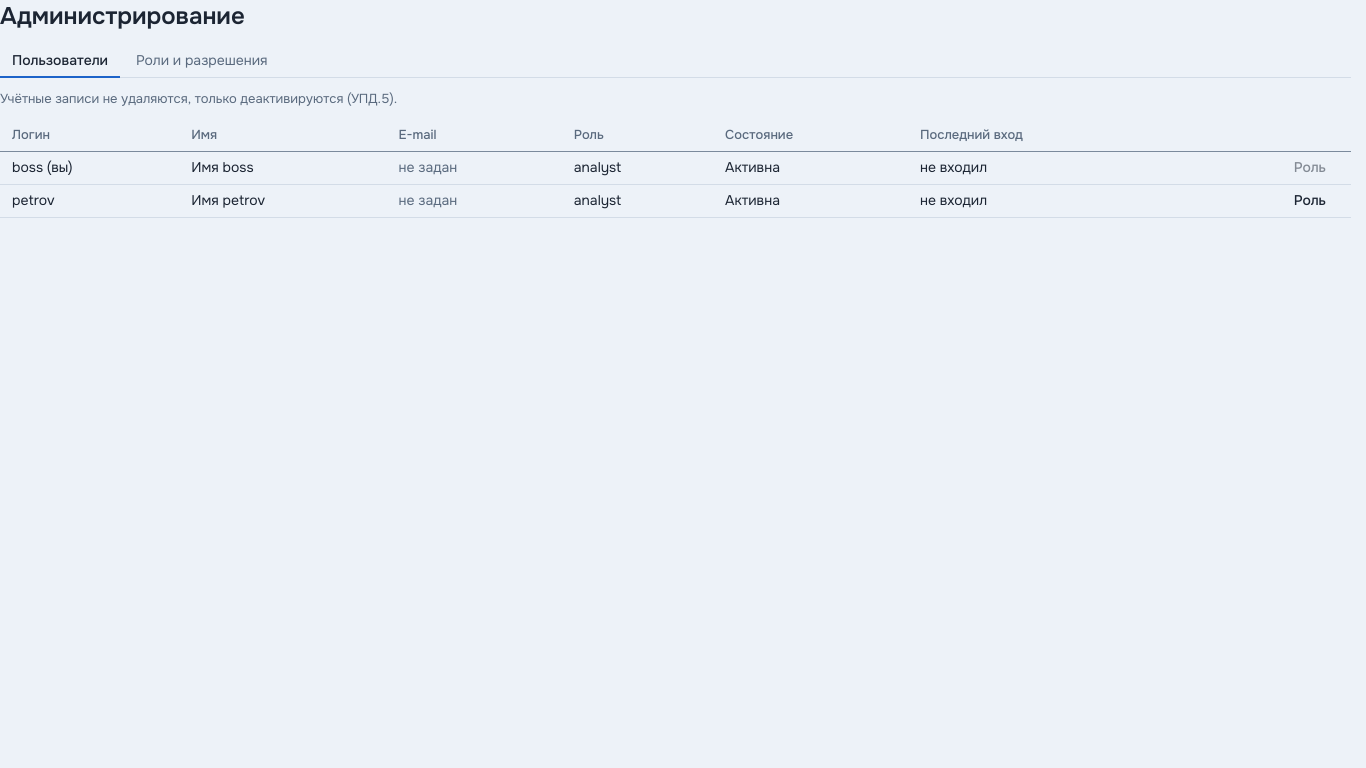
Test case: администрирование › смена роли идёт через диалог, отказ сервера показывается
Check: the text "petrov" is shown, box x1=0 y1=184 x2=179 y2=217
Click the button with aria-label "Сменить роль: petrov": (1310, 201) x1=1281 y1=185 x2=1339 y2=217
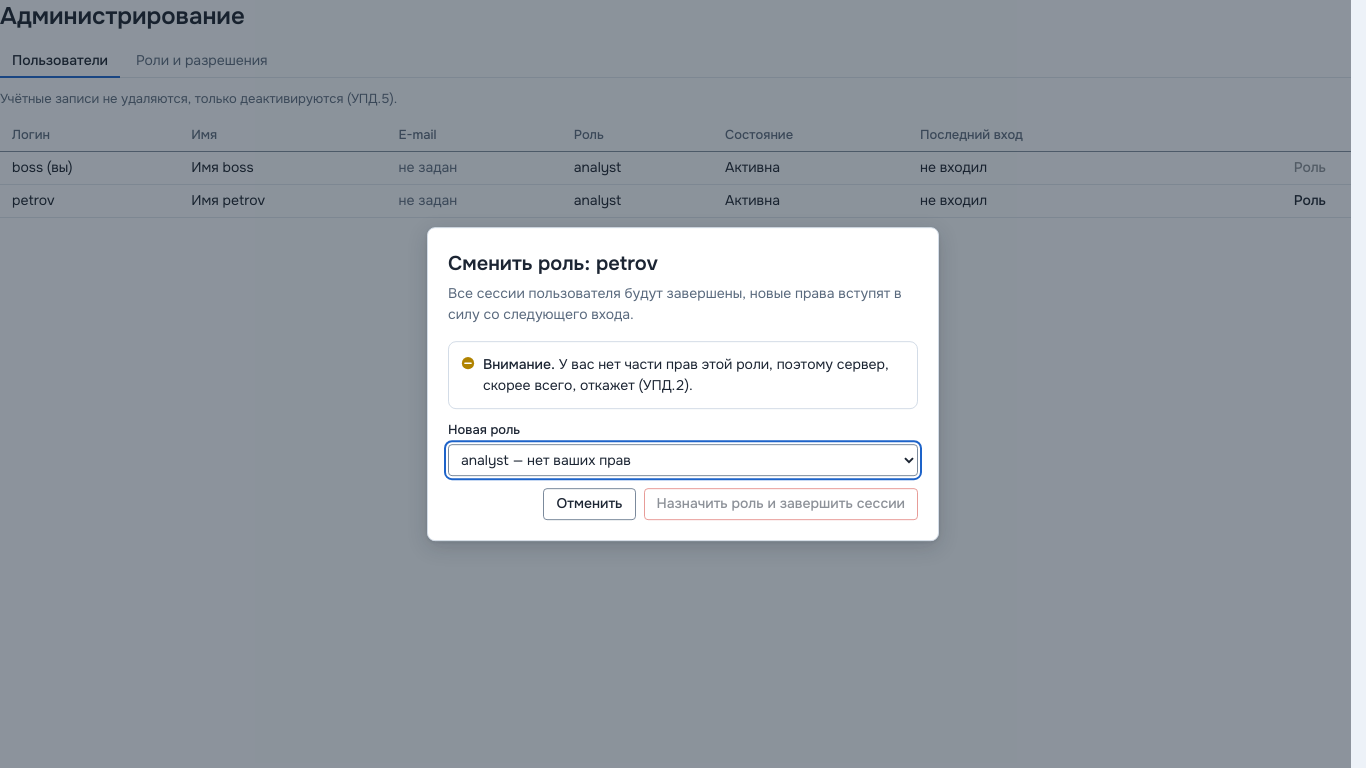
Select "security_admin — нет ваших прав" in the dropdown labelled "Новая роль": (683, 460) x1=448 y1=444 x2=918 y2=476
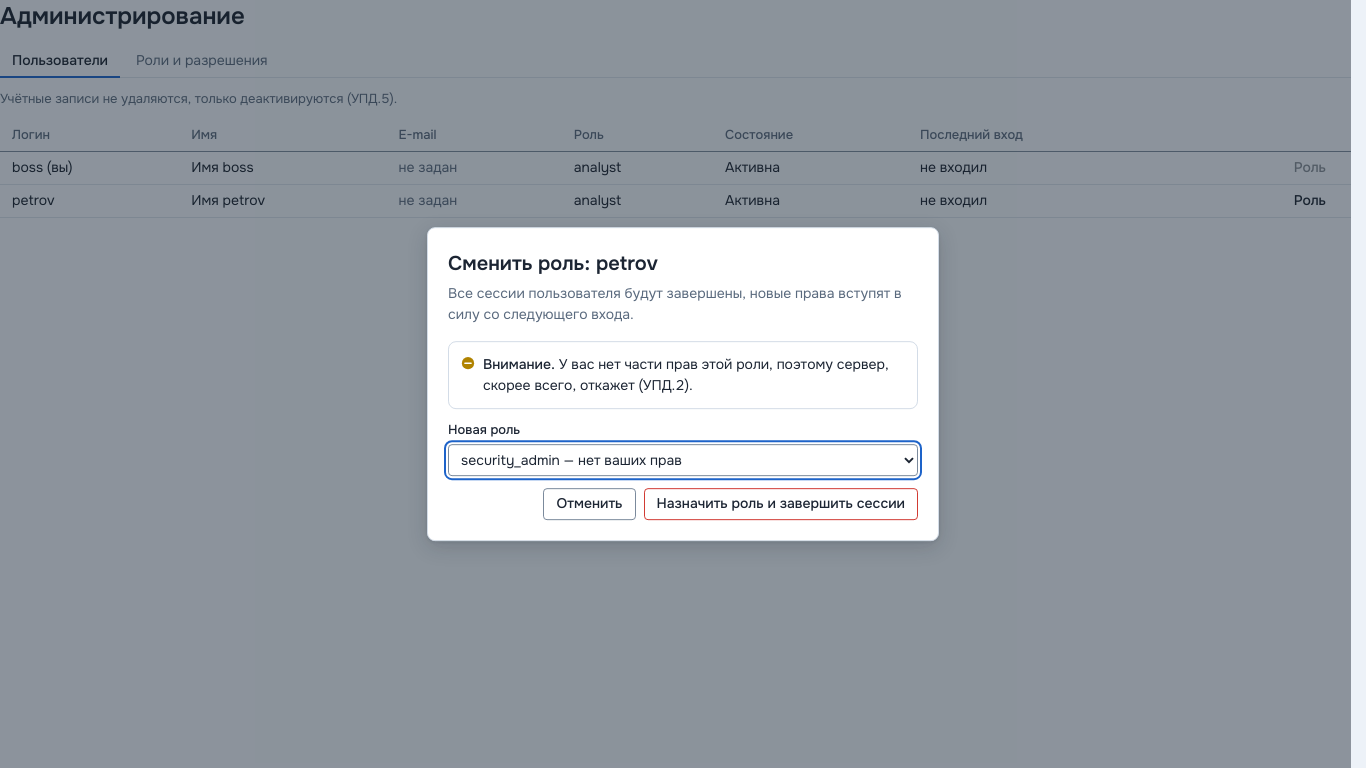
Click the button "Назначить роль и завершить сессии": (781, 504) x1=644 y1=488 x2=918 y2=520
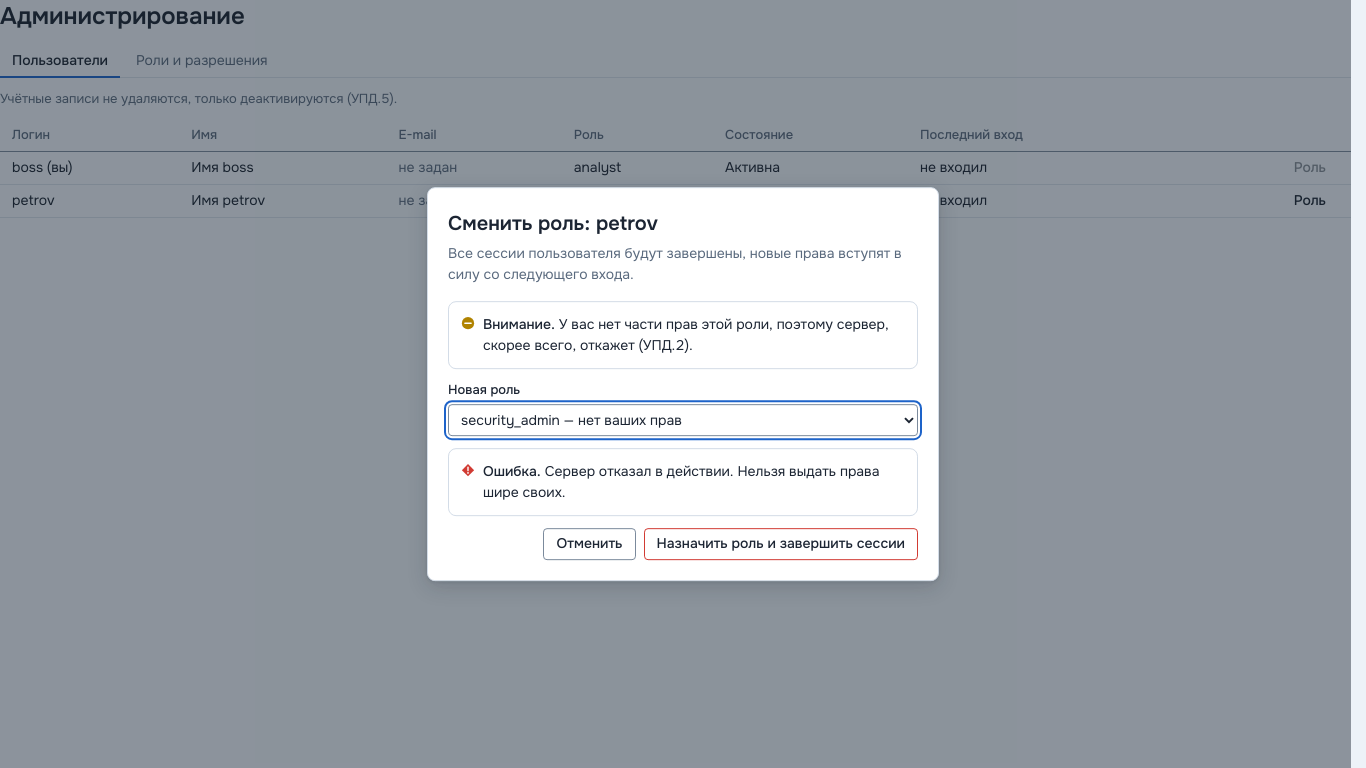
Check: the text "Нельзя выдать права шире своих" is shown, box x1=483 y1=462 x2=880 y2=501
